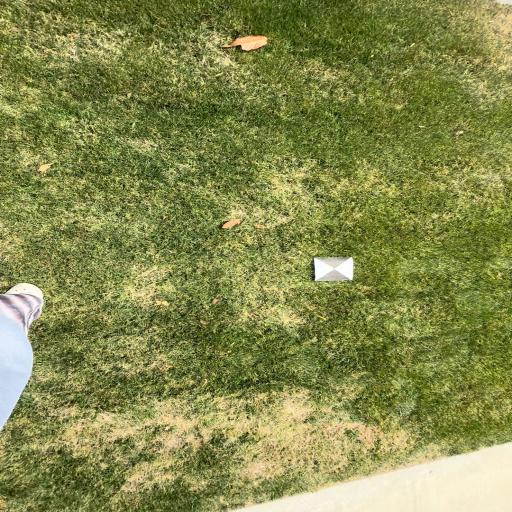target: (315, 258, 354, 280)
